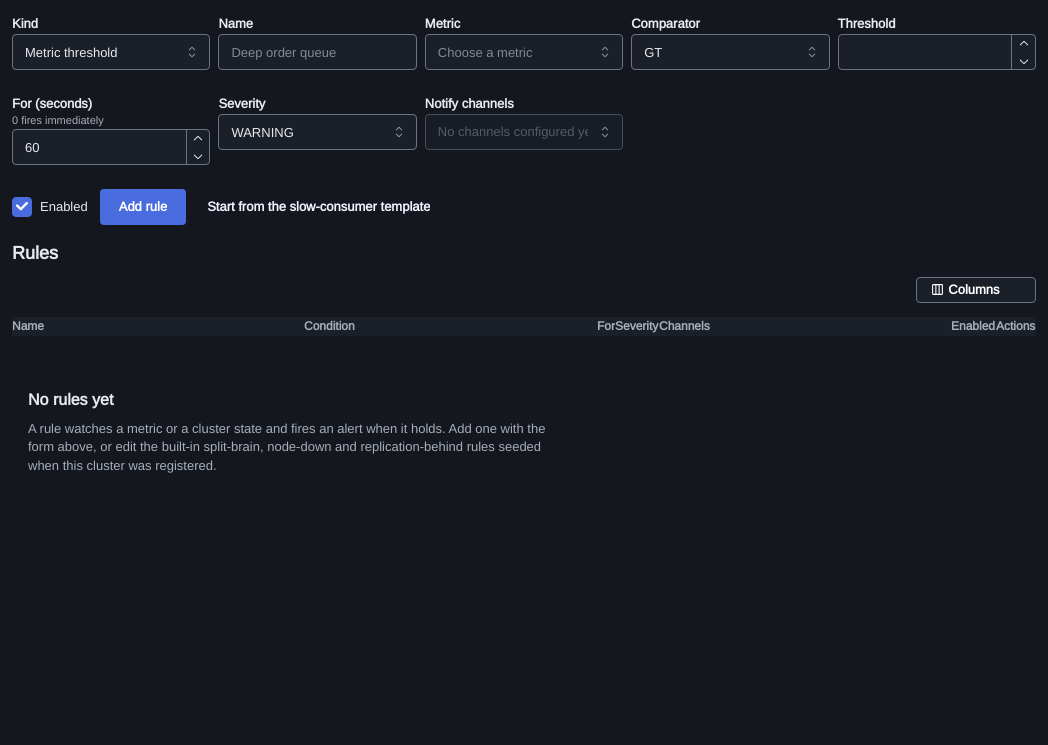
RulesPanel › offers the metrics running plugins publish and describes the chosen one
This screenshot has width=1048, height=745.
Expected: the text "No rules yet" is shown, [28,388,113,412]
Step 1. Click the dropdown labelled "Metric" → x=524, y=52, box [425,34,623,70]
(page scrolled)
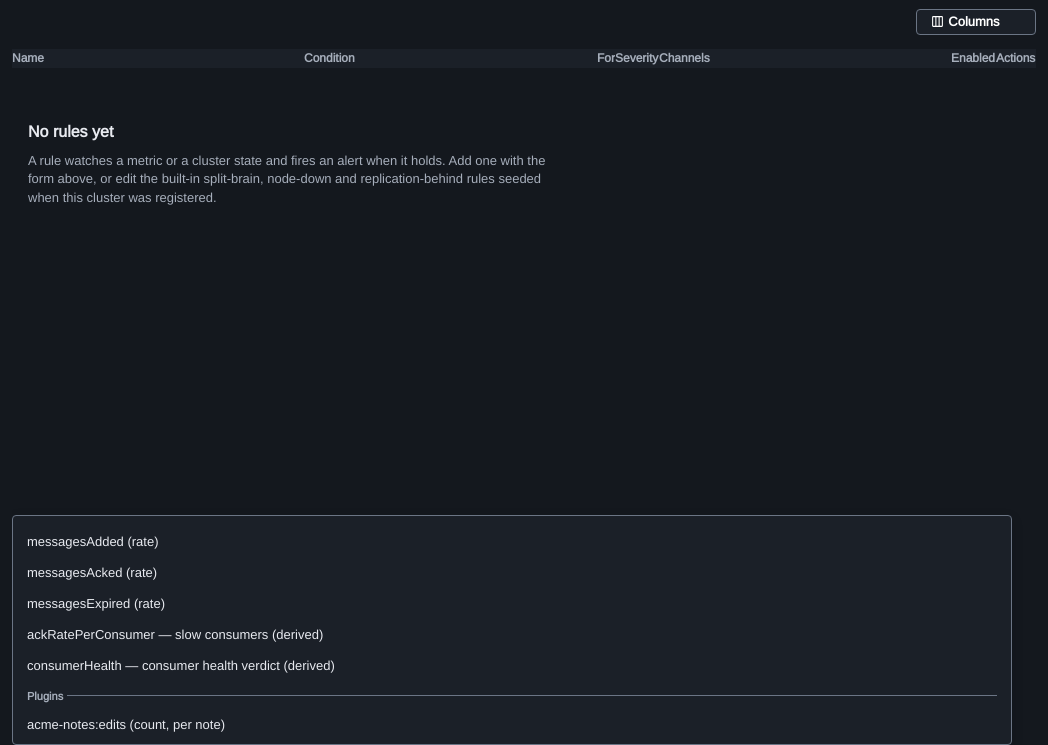
Step 2. Click the option "acme-notes:edits (count, per note)" → x=126, y=724, box [27,716,225,733]
(page scrolled)
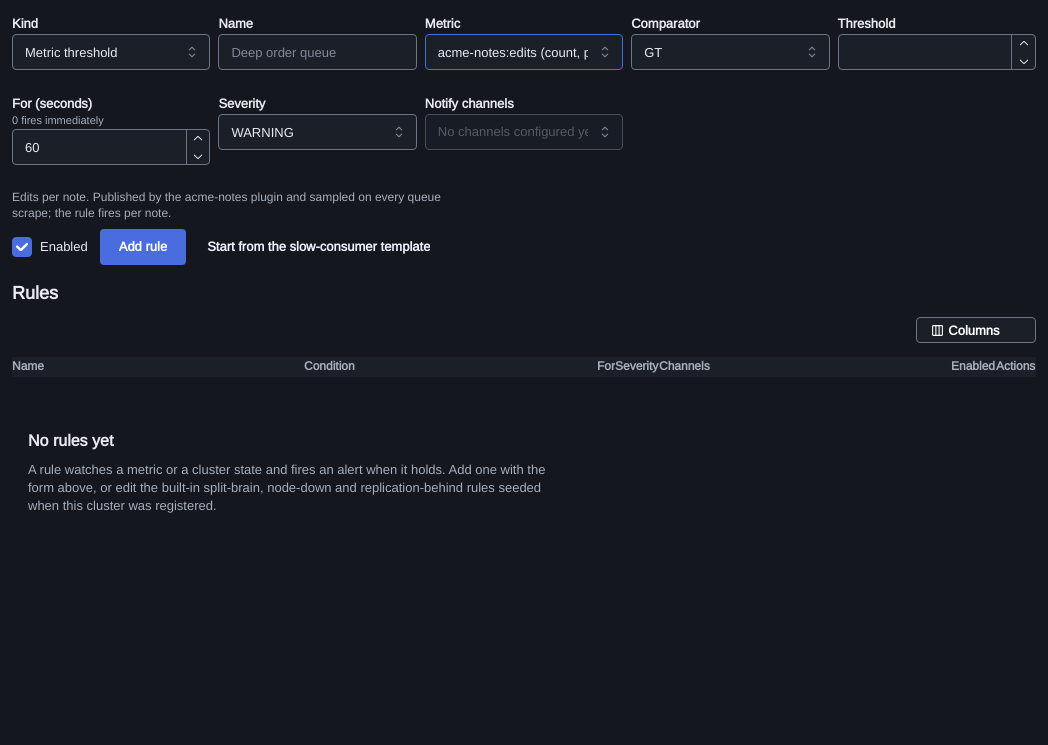
Now the text "Edits per note. Published by the acme-notes plugin" is shown, box [12,188,479,221]
